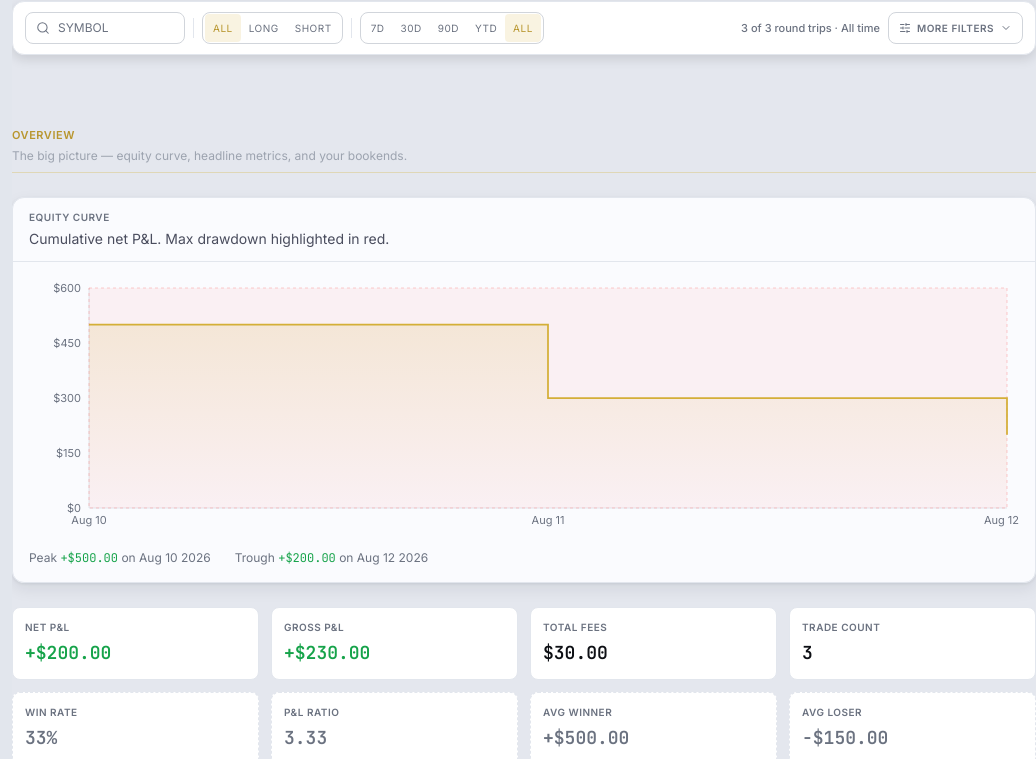
Scenario: T7 chart titles reflect the active range › 7D retitles every chart
The width and height of the screenshot is (1036, 759).
Click the button "7D" at point(378, 28), box [363,14,392,42]
(page scrolled)
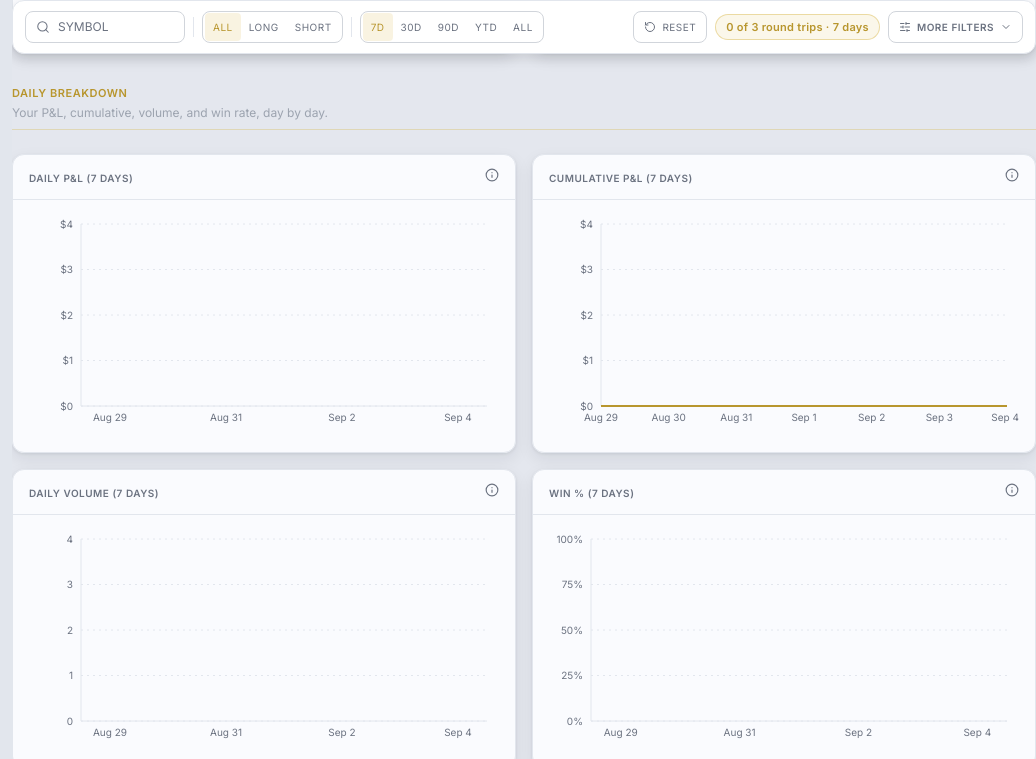
Check: the text "Daily P&L (7 days)" is shown, box [29,171,133,186]
Check: the text "Cumulative P&L (7 days)" is shown, box [549,171,693,186]
Check: the text "Daily Volume (7 days)" is shown, box [29,486,159,501]
